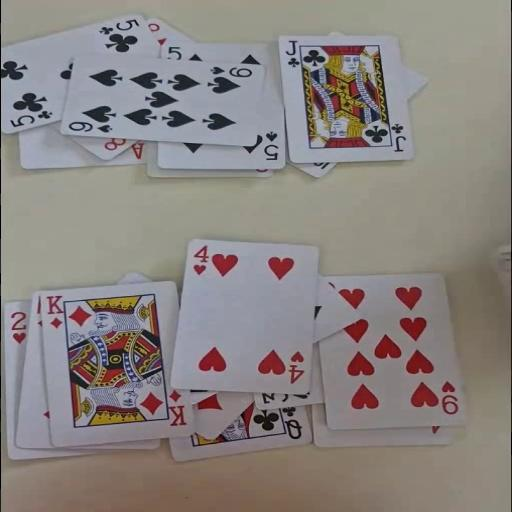2: (8, 310, 30, 344)
4: (286, 349, 306, 384), (190, 244, 210, 276)
5: (6, 109, 55, 128), (96, 17, 140, 36), (262, 129, 280, 161)
8: (100, 136, 128, 151)
9: (438, 378, 460, 416), (65, 119, 113, 133), (208, 64, 254, 78)
J: (388, 121, 407, 153), (283, 39, 301, 68)
K: (164, 387, 188, 427), (44, 293, 65, 330)
